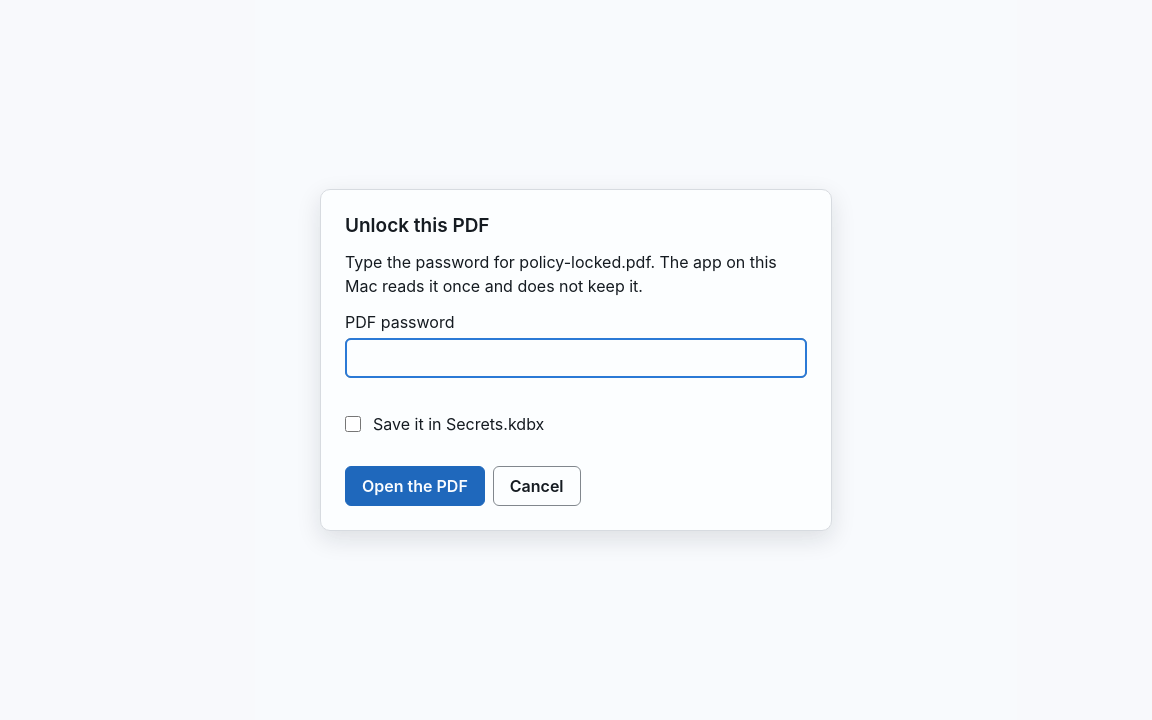
Test: UnlockDialog › the unlock password is cleared after submit and never sent in a URL
The width and height of the screenshot is (1152, 720).
Type "test-only-pdf-pw" into the password field labelled "PDF password" at (576, 358), box x1=345 y1=338 x2=807 y2=378
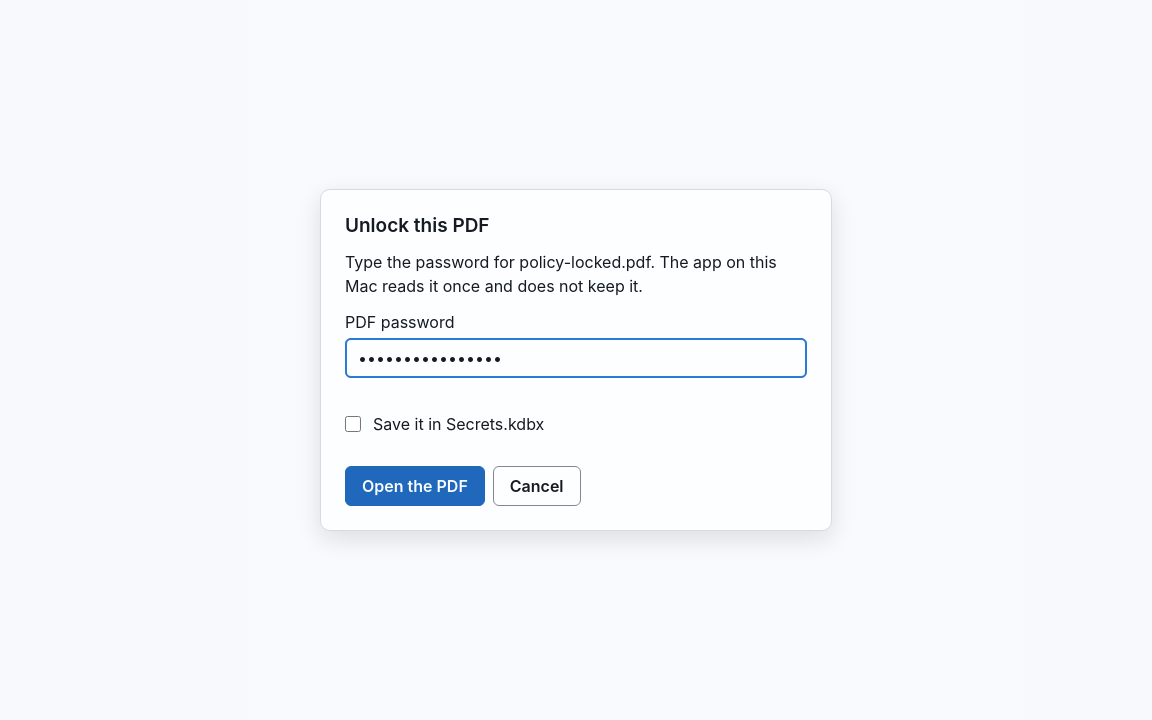
Click the button "Open the PDF" at (415, 486), box x1=345 y1=466 x2=485 y2=506
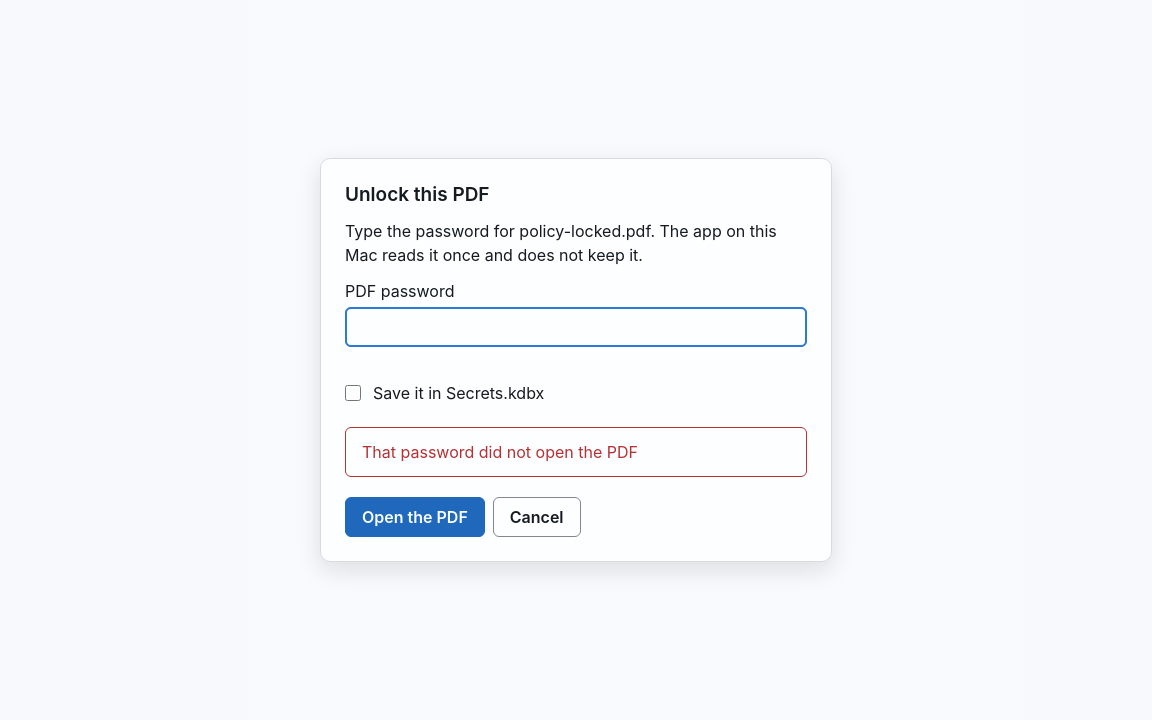
Now the message reads "That password did not open the PDF", box x1=362 y1=442 x2=638 y2=462
Now the password field labelled "PDF password" is empty, box x1=345 y1=307 x2=807 y2=347
